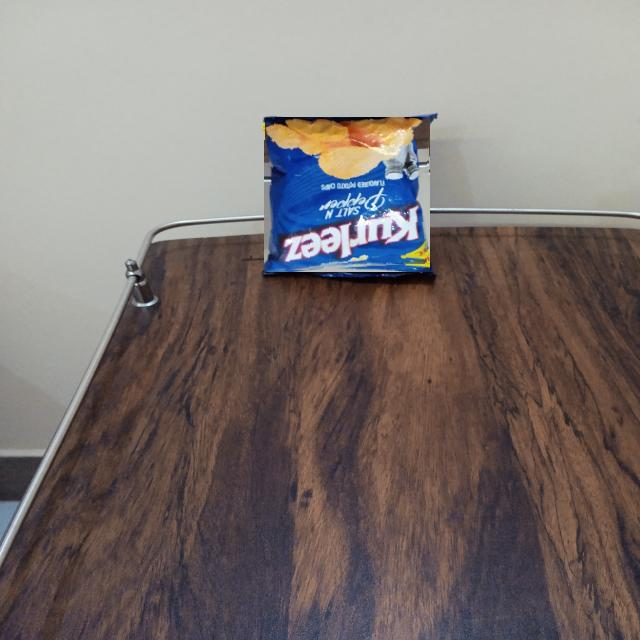Plastic: (264, 117, 430, 272)
